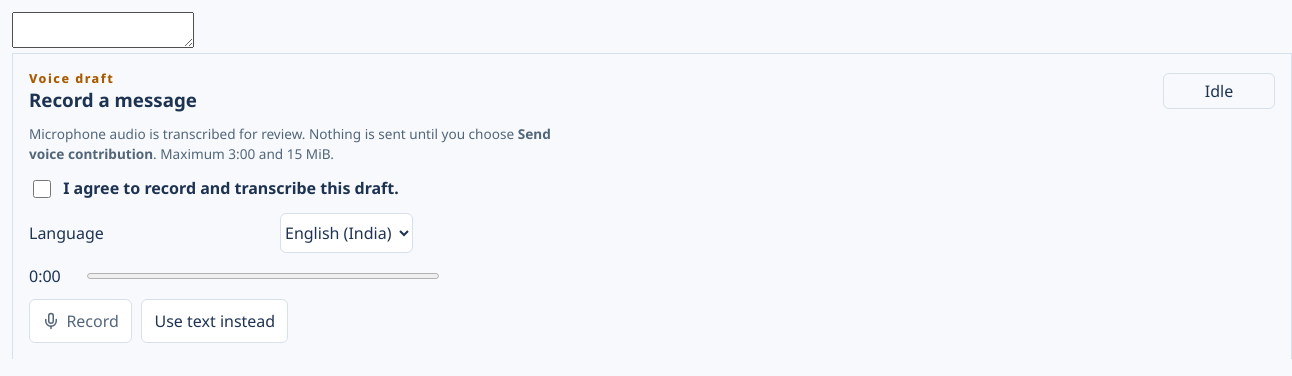
Scenario: cancels an active recording without resurrecting playback
The width and height of the screenshot is (1292, 376).
Click the checkbox at [42, 189], box [33,180,51,198]
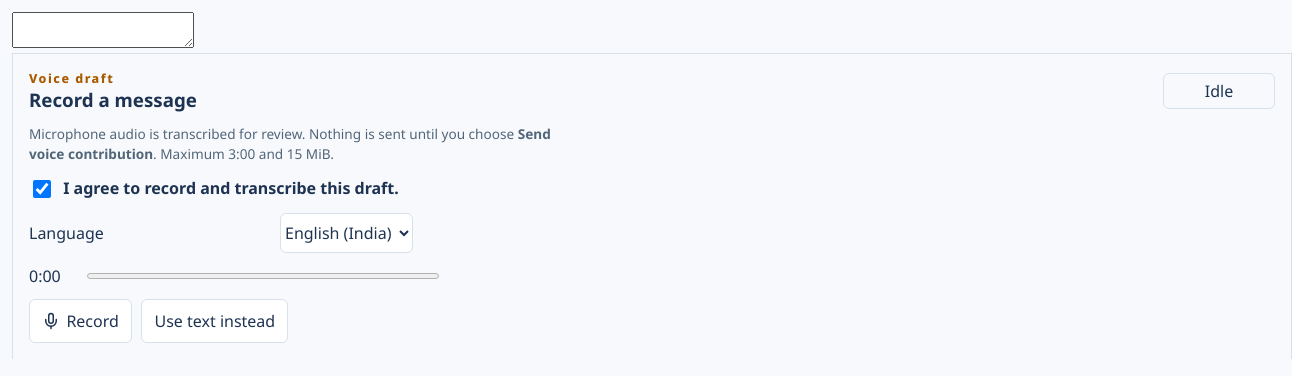
Click the button "Record" at [80, 321], box [29,299,132,343]
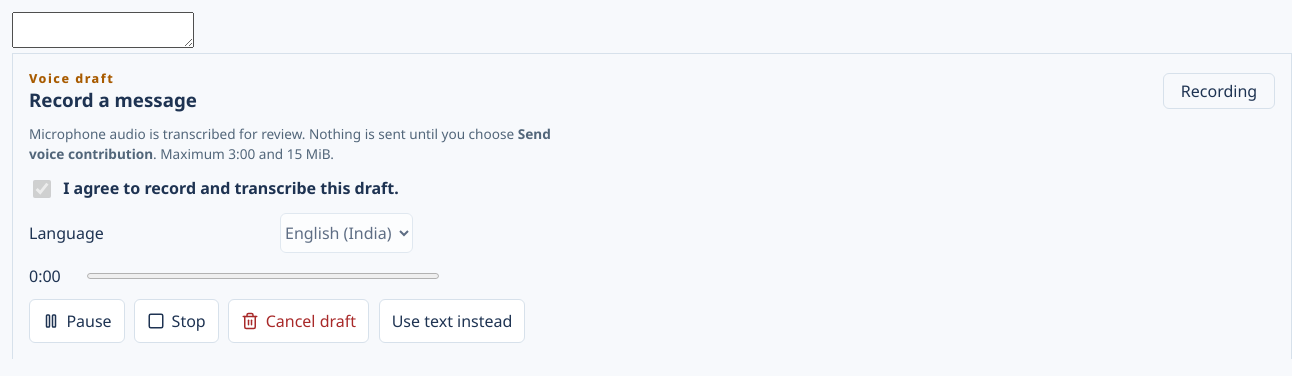
Expected: the button "Cancel draft" is shown
Click the button "Cancel draft" at [299, 321], box [228,299,369,343]
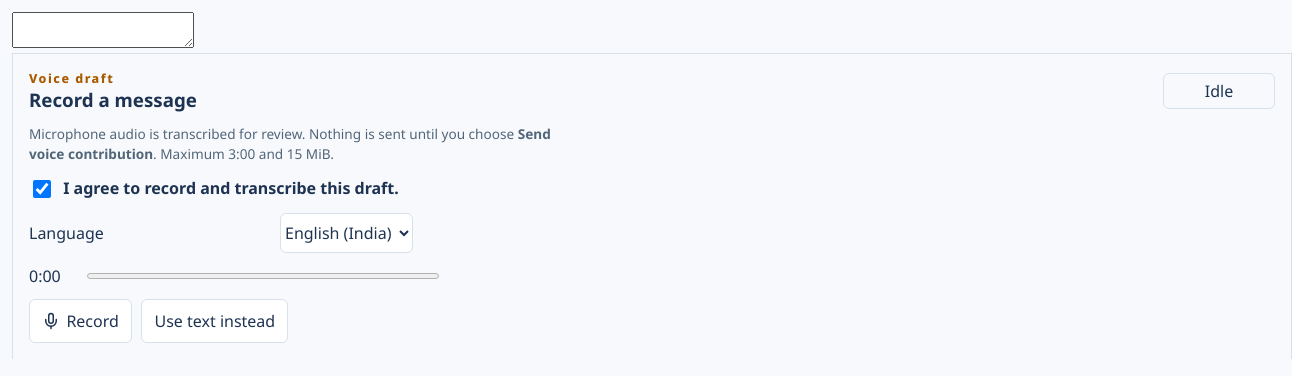
Expected: the text "idle" is shown, [1163,73,1275,109]
